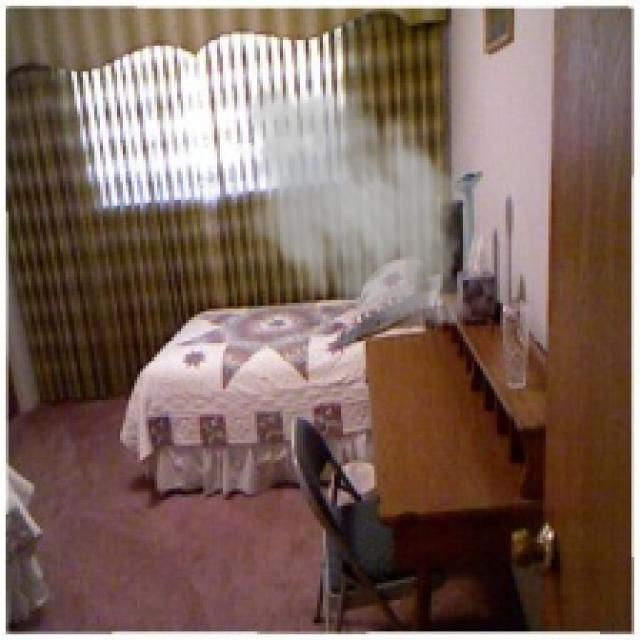Smoke: (226, 77, 483, 337)
